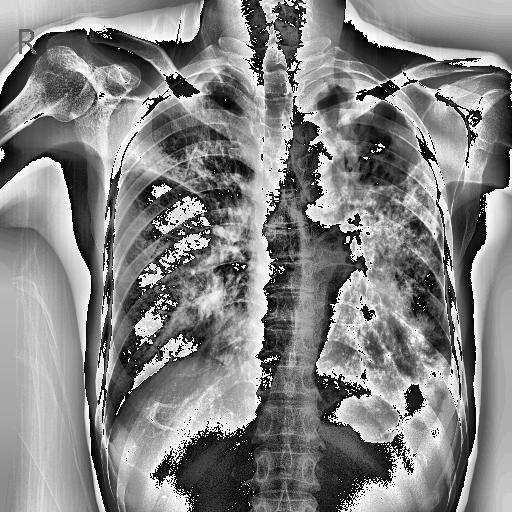11- Pleural thickening: (296, 61, 425, 140), (302, 66, 420, 135), (158, 62, 226, 102)
12- Pneumothorax: (344, 94, 424, 182)
13- Pulmonary fibrosis: (330, 158, 444, 366), (121, 70, 255, 204), (121, 97, 249, 211), (136, 93, 240, 202)
5- ILD: (330, 158, 444, 366)
6- Infiltration: (352, 156, 468, 418), (325, 158, 450, 382), (330, 158, 444, 366), (121, 70, 255, 204), (121, 97, 249, 211), (136, 93, 240, 202), (170, 253, 238, 333)
7- Lung Opacity: (325, 158, 450, 382)
